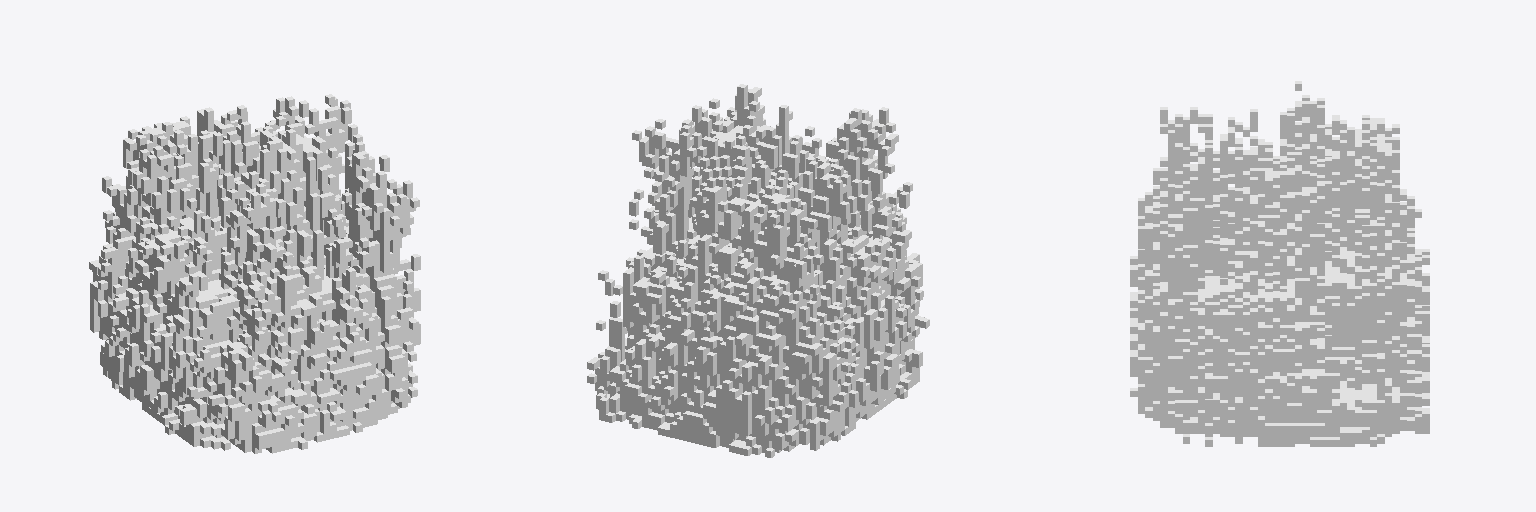
File: kusa.obj
3 renders of one model, left to right at view 1: azimuth 30°, elevation 25°; view 2: azimuth 150°, elevation 25°; view 3: azimuth 270°, elevation 25°, orthographic.
Visible parts, largest first — view 1: object 1; view 2: object 1; view 3: object 1.
Boxes of the visible parts, x1=… form: object 1: x1=89, y1=94, x2=420, y2=453; object 1: x1=587, y1=84, x2=929, y2=457; object 1: x1=1130, y1=81, x2=1429, y2=446.
Bounding box in the file's own units: 3.7 × 3.9 × 4.